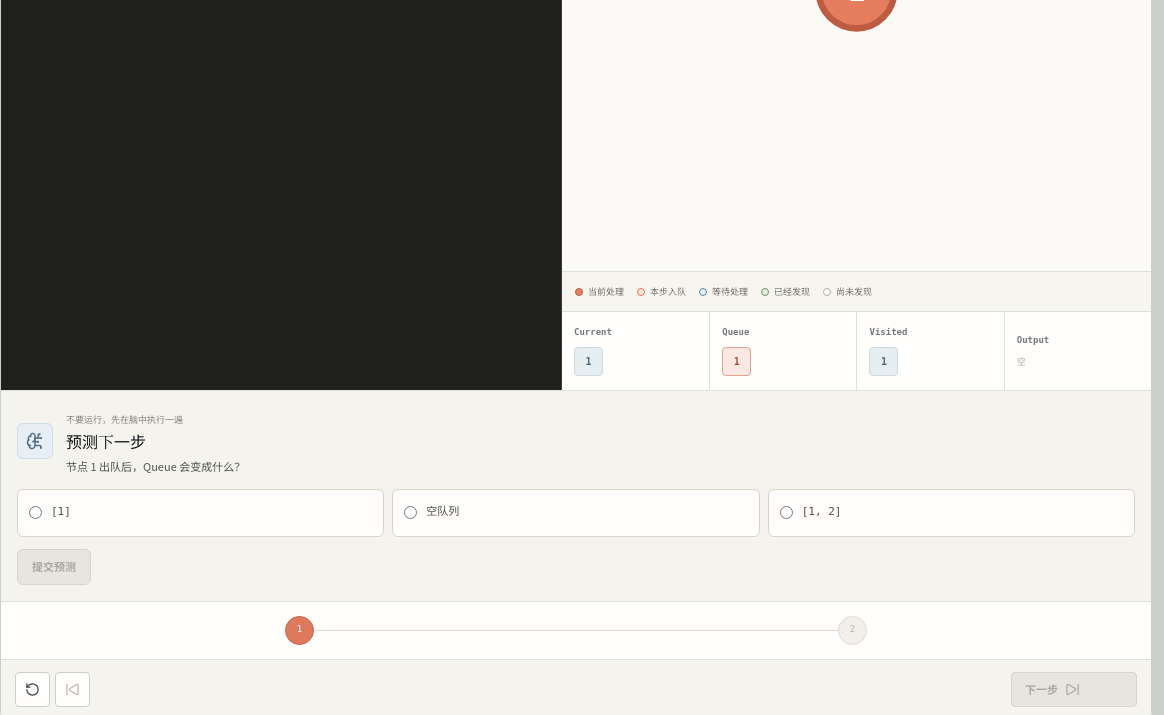
Test: TracePredictionChallenge › shows corrective feedback for an incorrect prediction
(page scrolled)
Click the radio button labelled "[1]" at coordinates (36, 512), box x1=29 y1=506 x2=42 y2=519
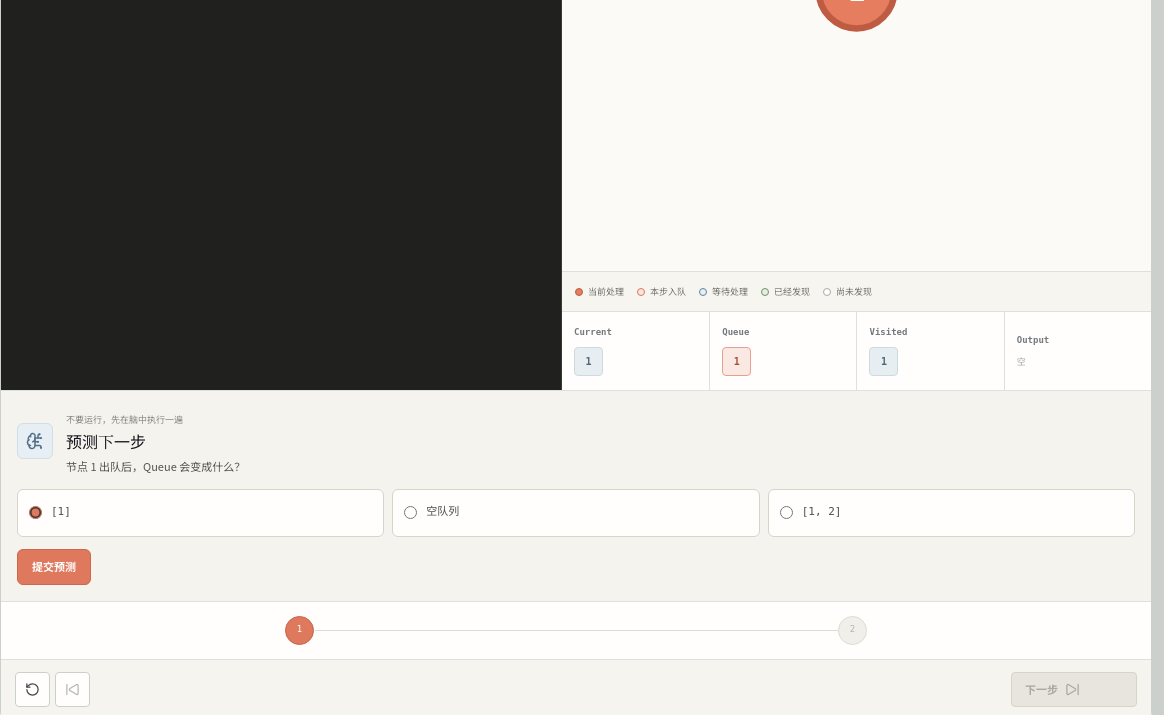
Click the button "提交预测" at coordinates (54, 566), box x1=17 y1=548 x2=91 y2=584
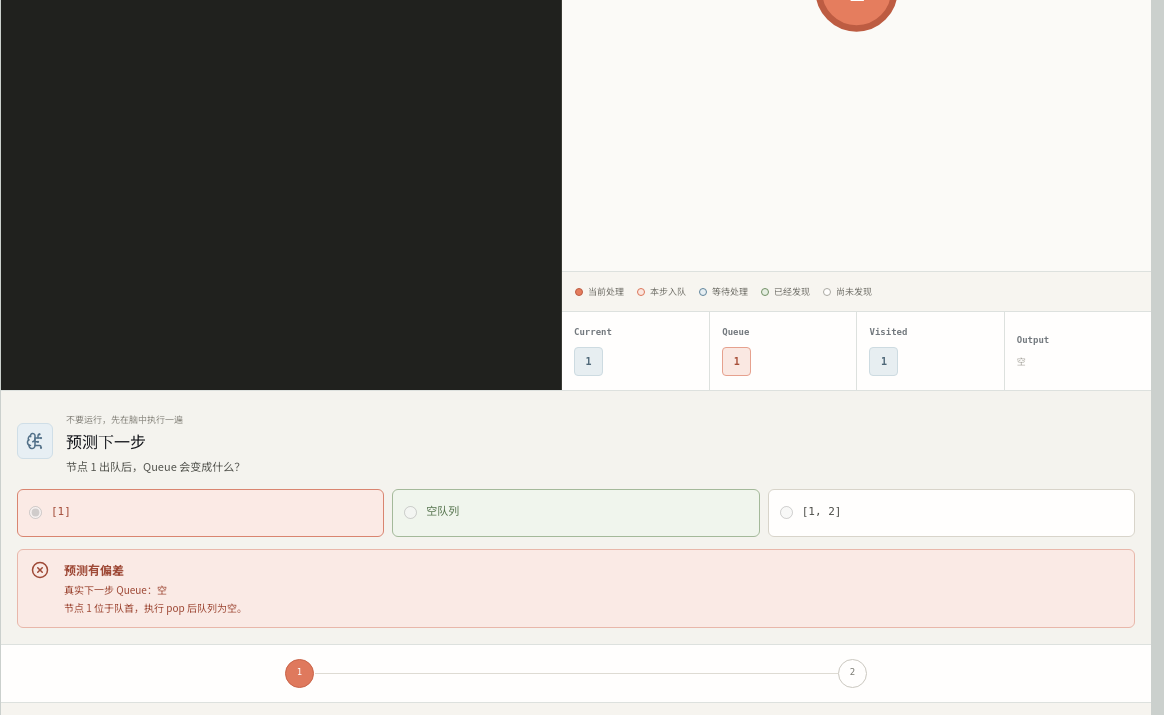
Now the message shows "预测有偏差", box x1=64 y1=560 x2=124 y2=578
Now the message shows "节点 1 位于队首，执行 pop 后队列为空。", box x1=64 y1=600 x2=247 y2=615
